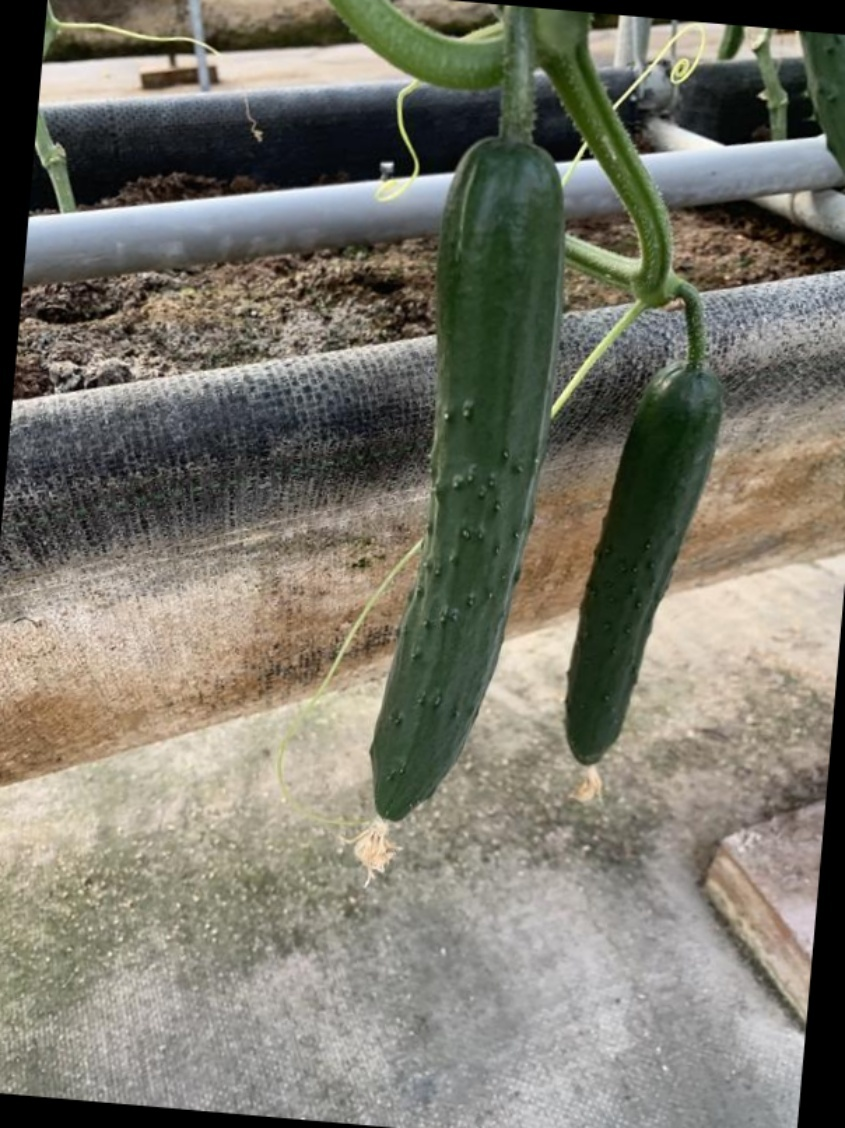mature: (558, 358, 727, 785)
